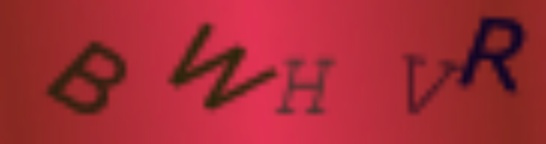B: (44, 36, 128, 113)
H: (281, 56, 339, 115)
R: (456, 14, 530, 94)
V: (396, 53, 460, 117)
W: (167, 18, 279, 111)
